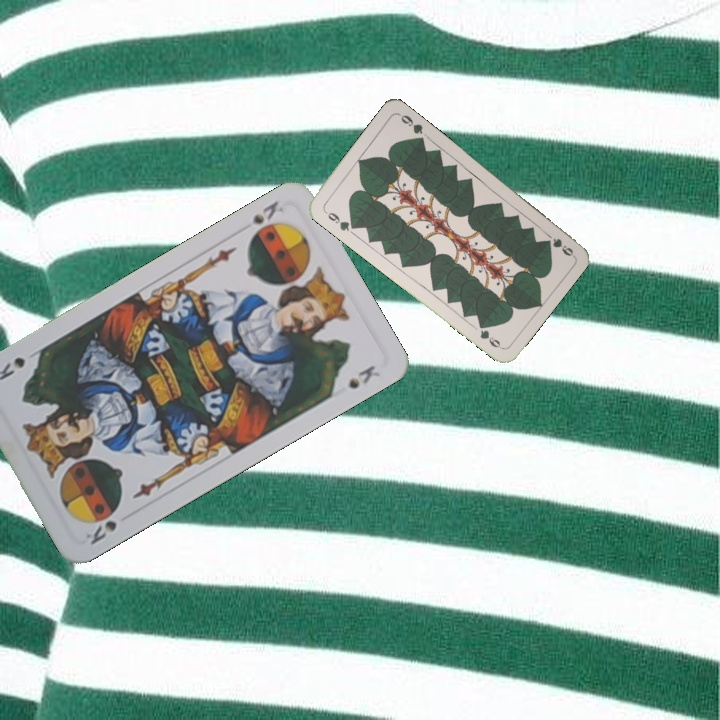G9: (320, 206, 358, 234), (549, 234, 576, 259)
SK: (245, 196, 286, 242), (81, 516, 120, 548)
